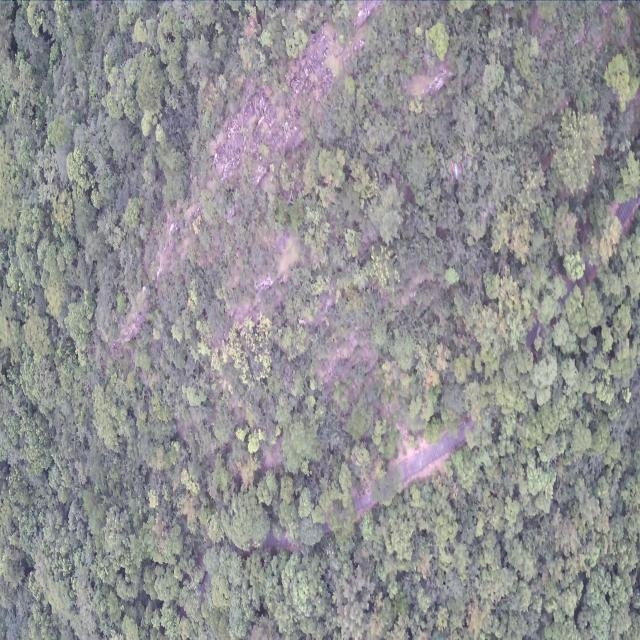UAV: (450, 160, 464, 182)
